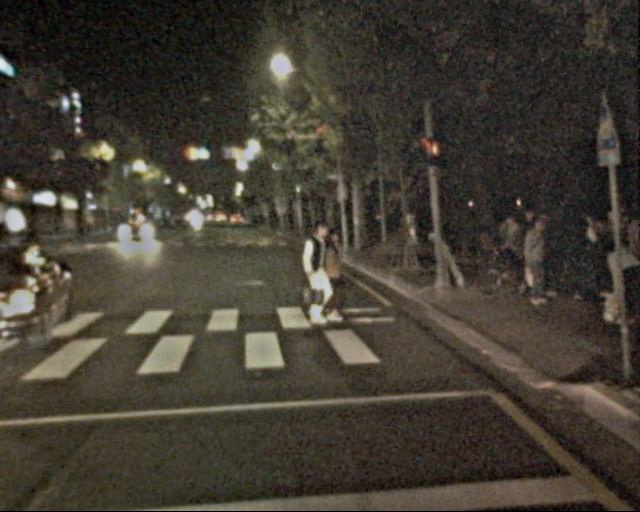person: (294, 219, 339, 328), (506, 209, 561, 295), (596, 231, 637, 330), (311, 228, 351, 326), (566, 211, 605, 307), (519, 216, 556, 307)
